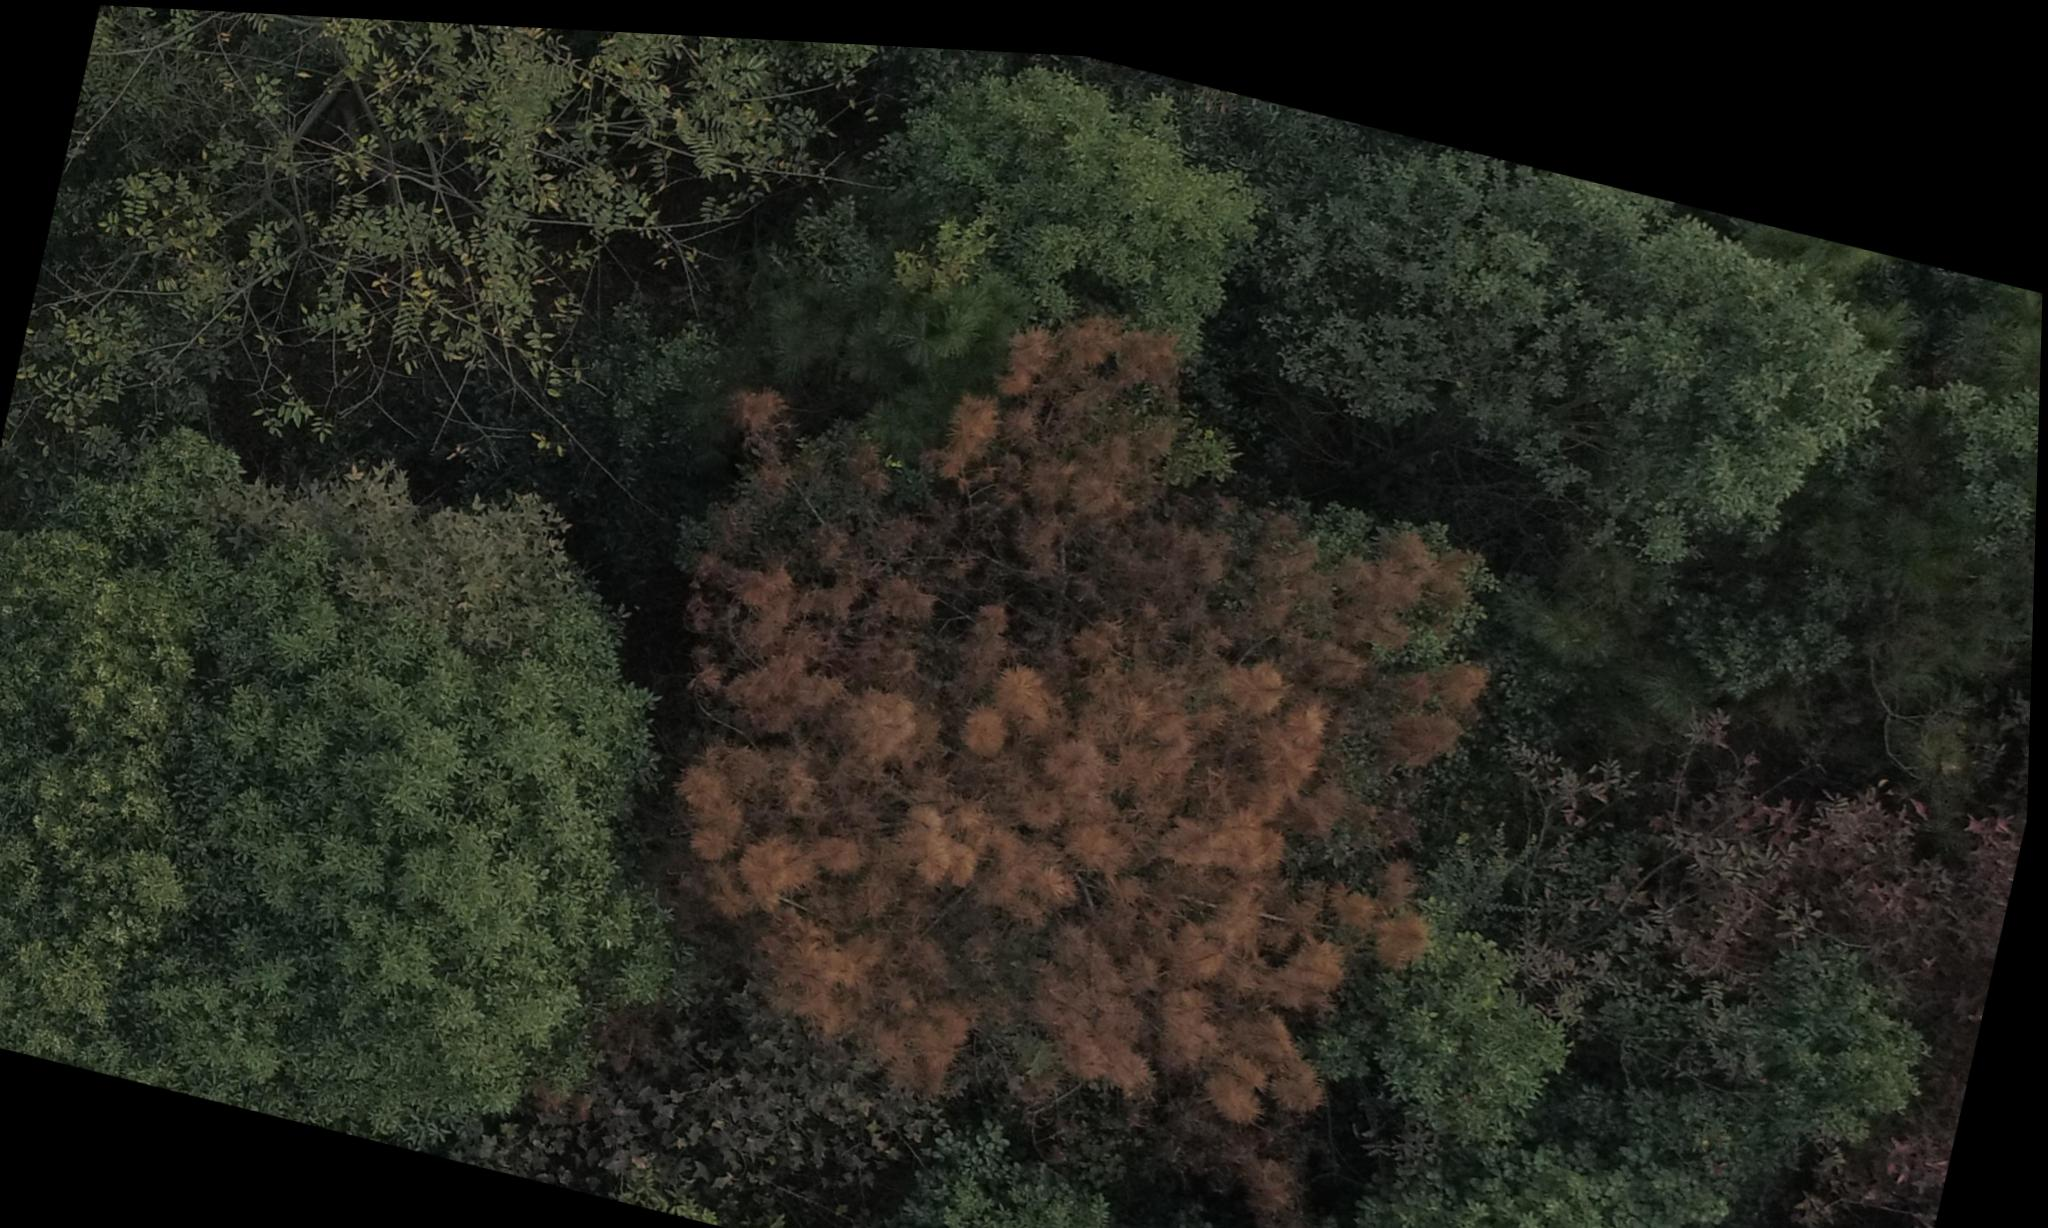heavy: (604, 200, 1593, 1221)
